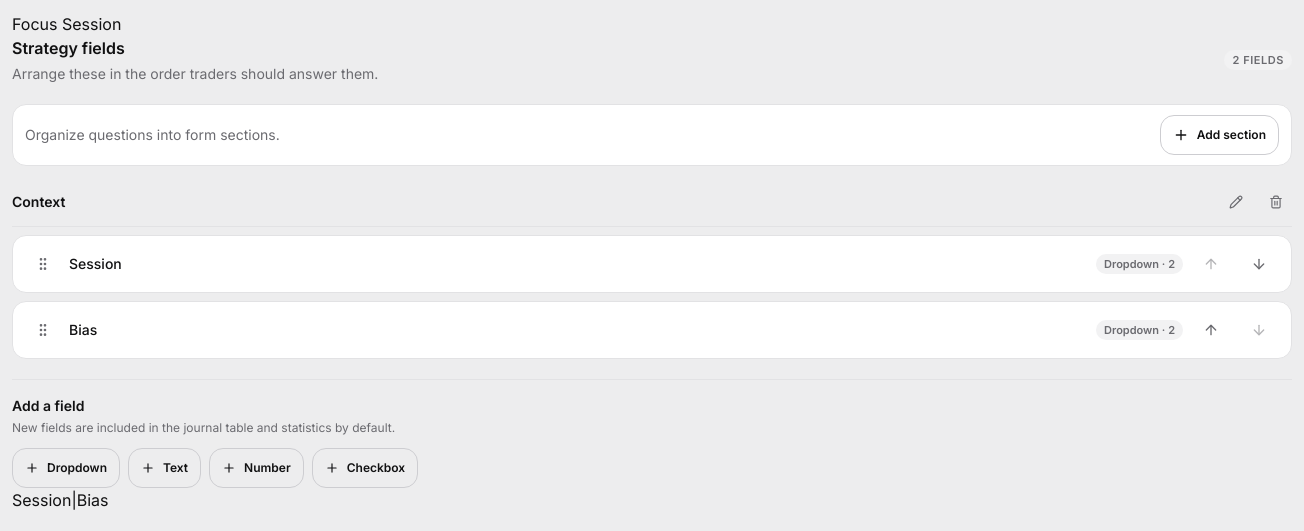
TemplateFieldEditorList › renames a section and keeps its fields in that section
The width and height of the screenshot is (1304, 531).
Click the button named "Rename Context section" at (1236, 202), box x1=1220 y1=186 x2=1252 y2=218
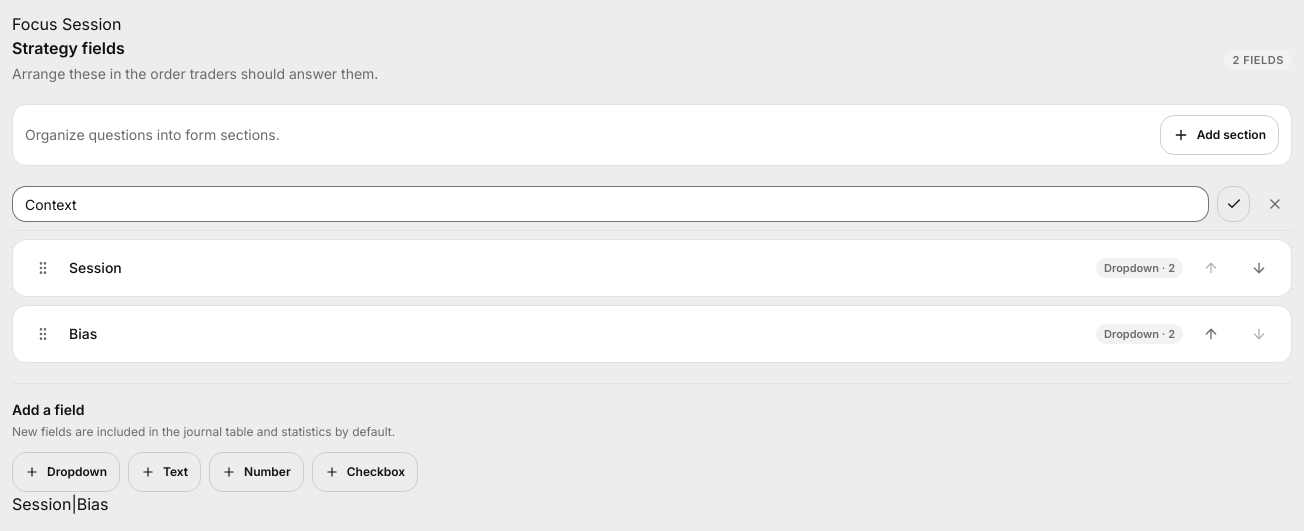
Replace the text in the field named "Section name for Context" with "Entry" at (610, 204), box x1=12 y1=186 x2=1209 y2=222
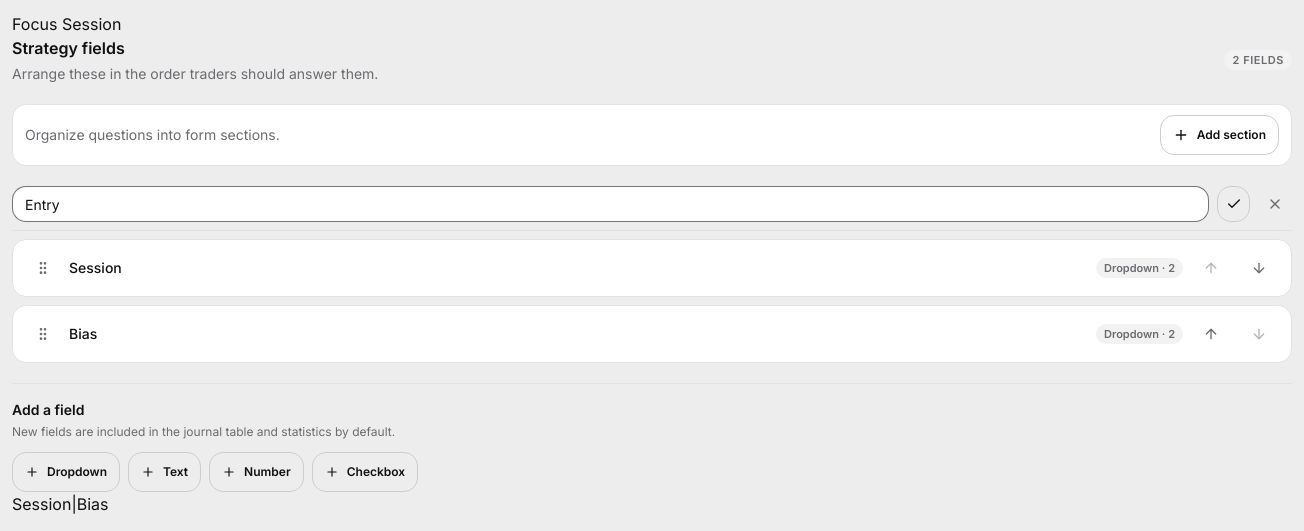
Click the button named "Save Context section name" at (1234, 204), box x1=1217 y1=186 x2=1250 y2=222
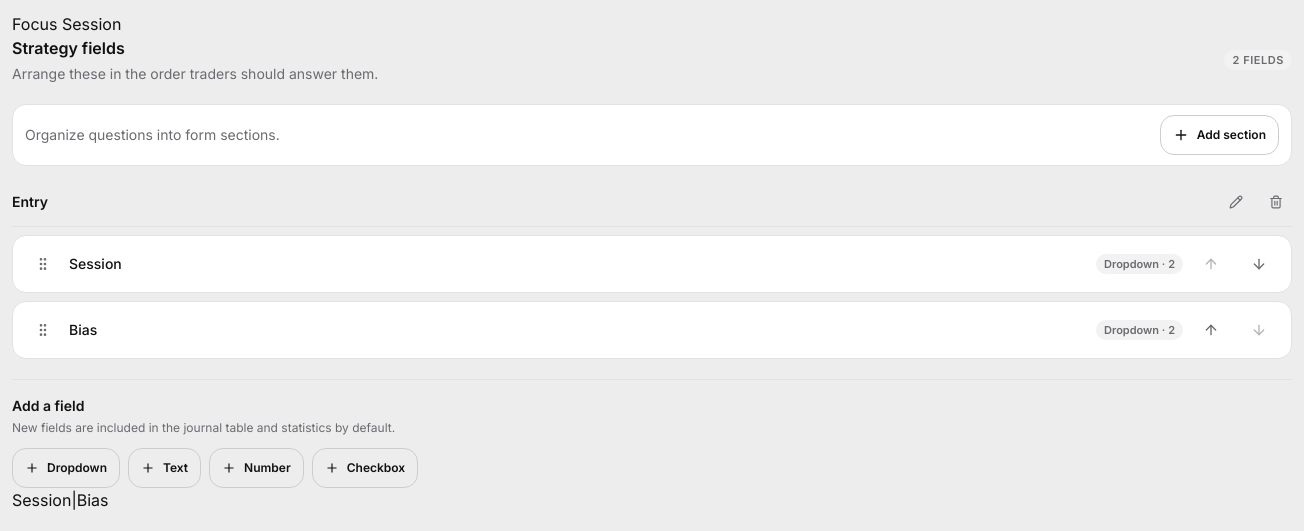
Expected: the element named "Entry fields" is shown, x1=12 y1=186 x2=1292 y2=359
